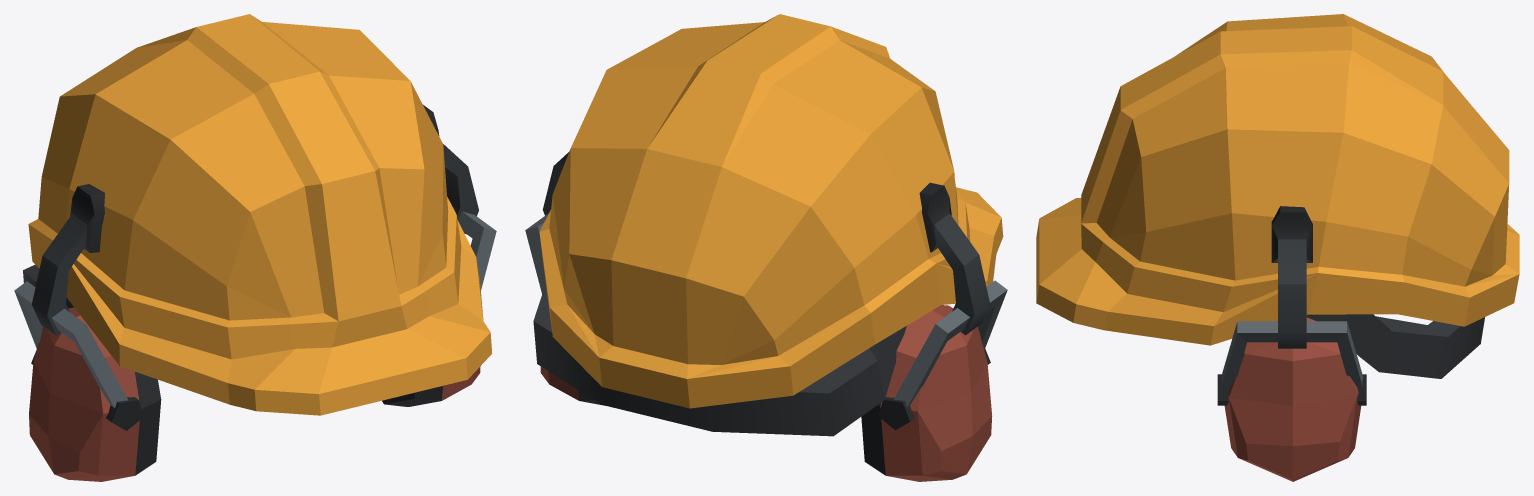
The model's file is SM_Chr_Attach_Helmet_Earmuffs_01.fbx.
3 renders of one model, left to right at view 1: azimuth 30°, elevation 25°; view 2: azimuth 150°, elevation 25°; view 3: azimuth 270°, elevation 25°, orthographic. The views are drawn at different scales.
Visible parts, largest first — view 1: SM_Chr_Attach_Helmet_Earmuffs_01; view 2: SM_Chr_Attach_Helmet_Earmuffs_01; view 3: SM_Chr_Attach_Helmet_Earmuffs_01.
Part boxes in pixels (x1=…): SM_Chr_Attach_Helmet_Earmuffs_01: x1=14, y1=14, x2=496, y2=481; SM_Chr_Attach_Helmet_Earmuffs_01: x1=525, y1=14, x2=1007, y2=481; SM_Chr_Attach_Helmet_Earmuffs_01: x1=1036, y1=14, x2=1519, y2=481.
Bounding box in the file's own units: 34.85 × 30.9 × 36.63.
